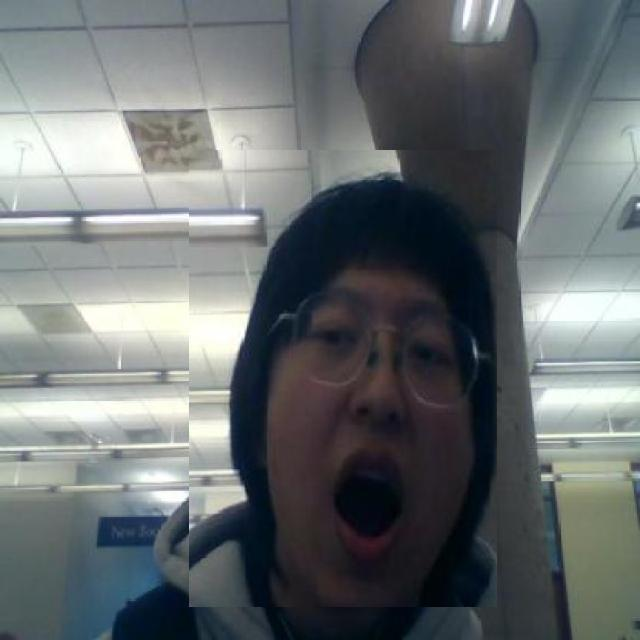Yawn: (189, 150, 497, 607)
